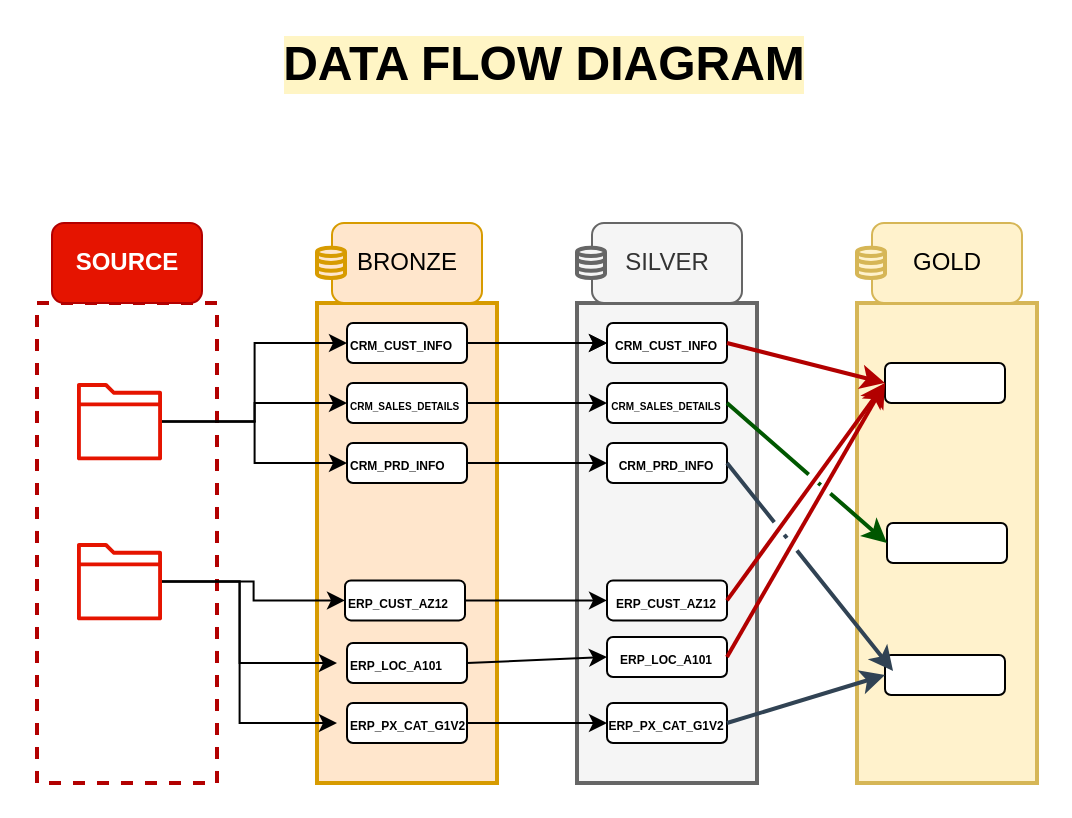
The diagram is 1072 pixels wide and 818 high, and some of its shapes have lost their labels. Each missing label, with the box of its shape:
CRM: (75, 381, 162, 460)
DIM_customers: (883, 361, 1005, 403)
DIM_product: (883, 653, 1005, 695)
ERP: (75, 541, 162, 620)
FACT_sales: (885, 521, 1007, 563)
